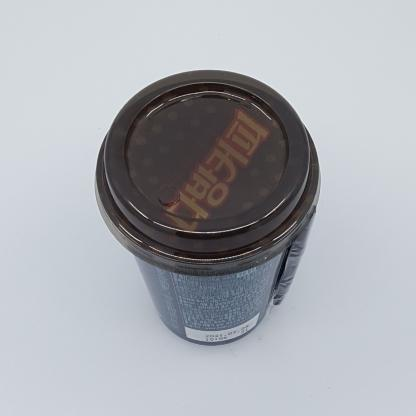----------: (94, 69, 320, 345)
